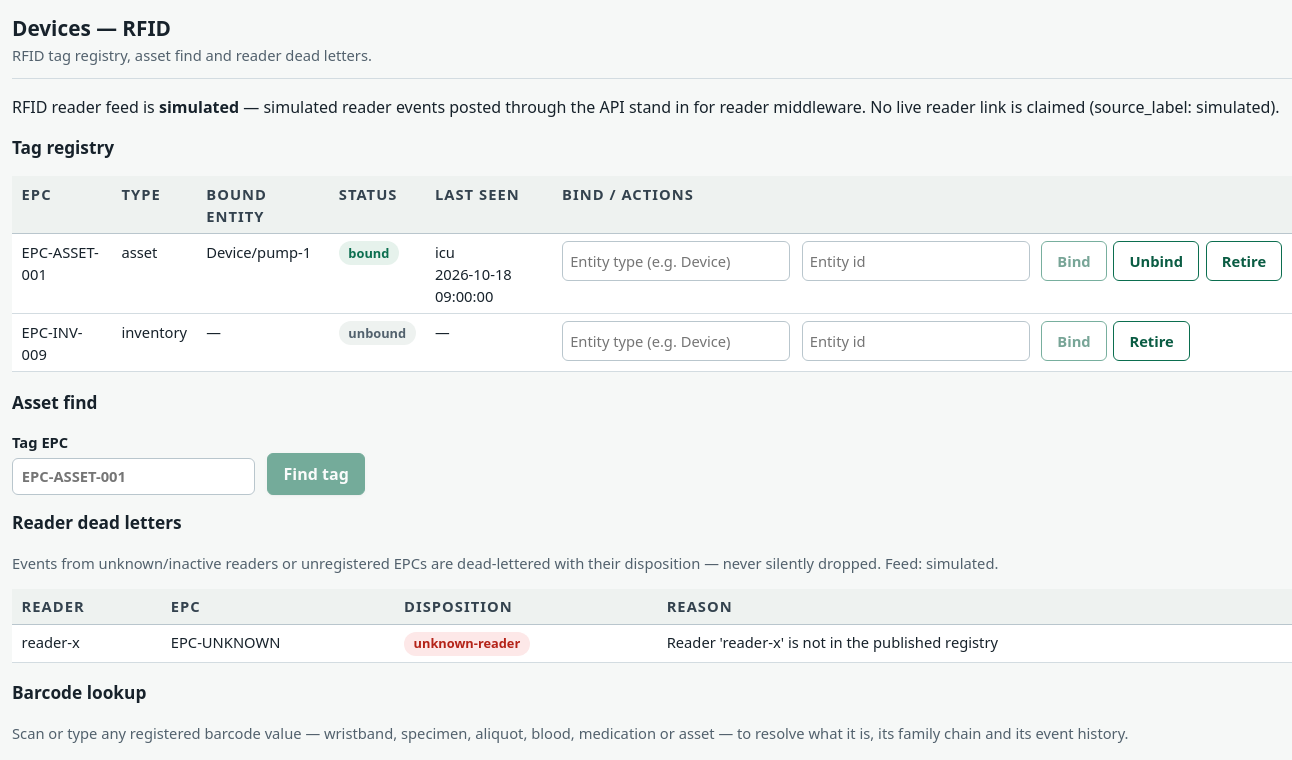
Test: DevicesPage RFID panel (Phase 15) › binds an unbound tag through the API and confirms
expect the text "EPC-INV-009" is shown: met, box [12,314,112,372]
Type "Device" into the field named "Entity type for tag EPC-INV-009".
click(676, 341); type("Device")  # box [562,321,790,361]
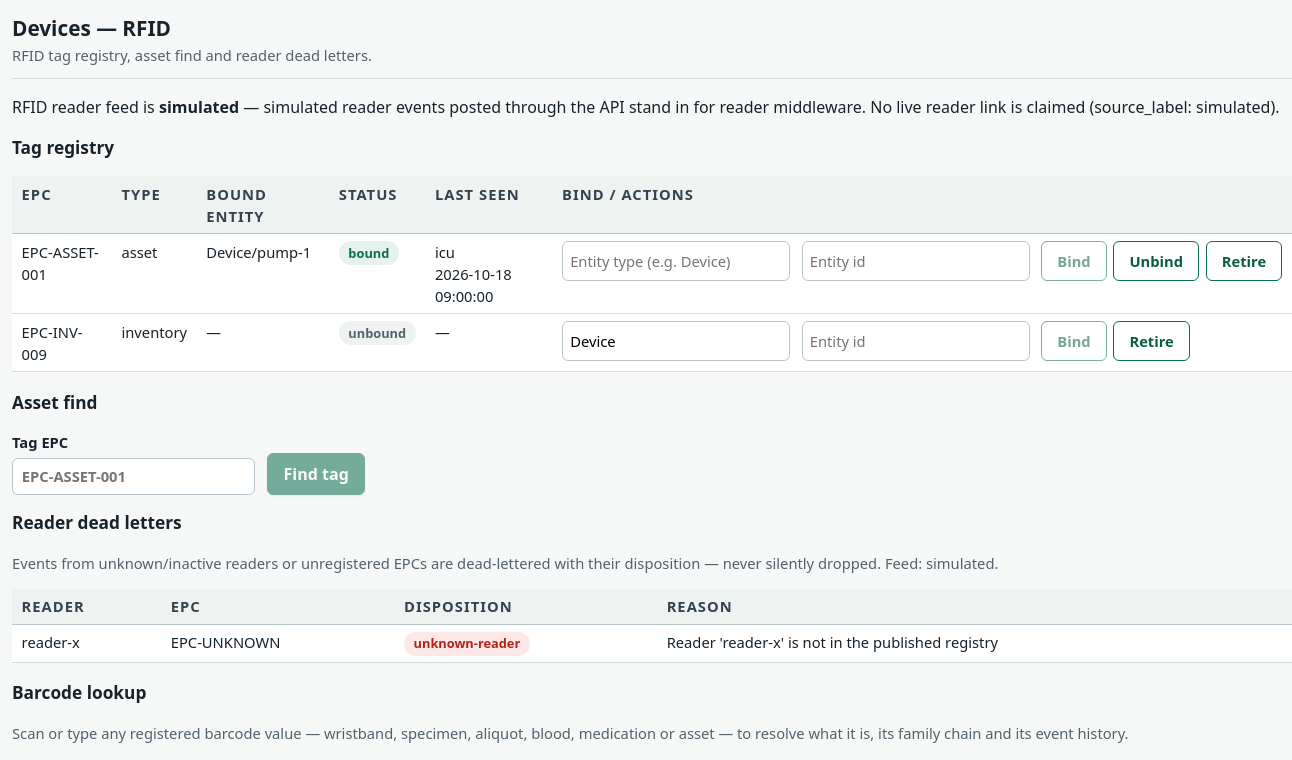
Type "pump-2" into the field named "Entity id for tag EPC-INV-009".
click(916, 341); type("pump-2")  # box [802,321,1030,361]
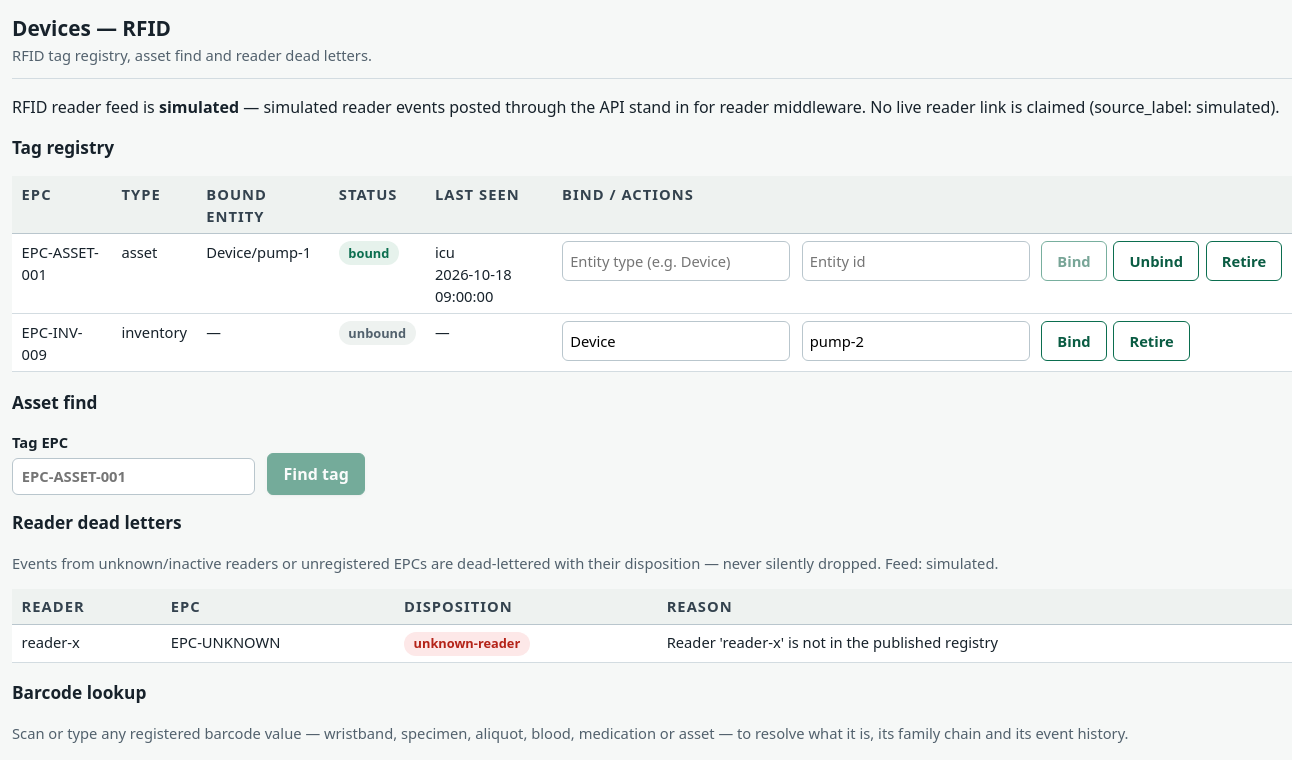
Click the button "Bind" in the row of "EPC-INV-009".
click(1074, 341)  # box [1041,321,1107,361]
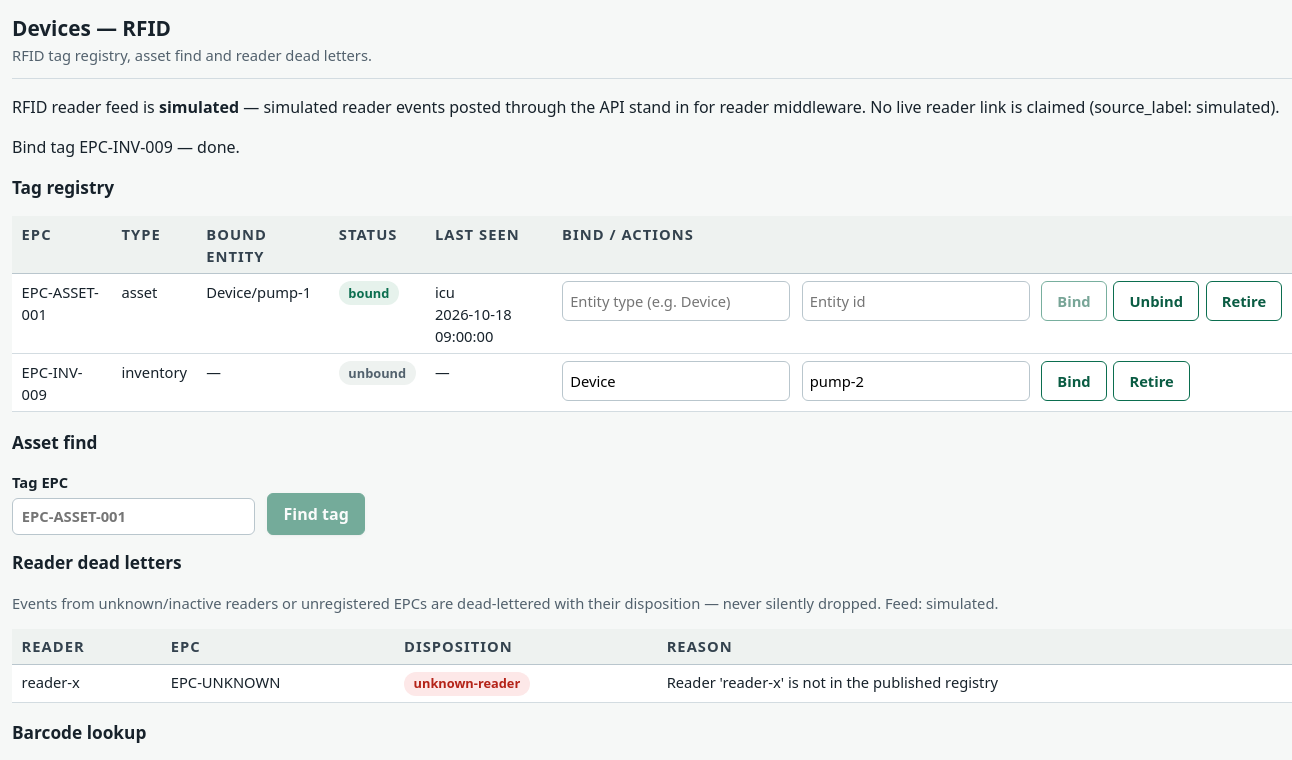
expect the text "Bind tag EPC-INV-009 — done." is shown: met, box [12,136,240,158]
